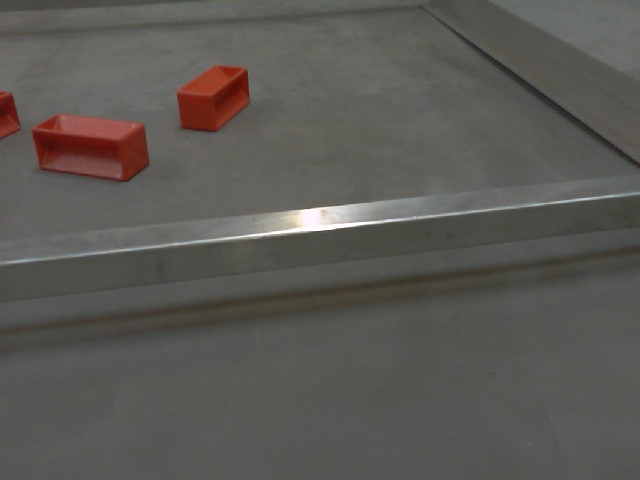RedSample: (30, 112, 155, 181), (176, 64, 256, 133), (1, 87, 23, 139)
